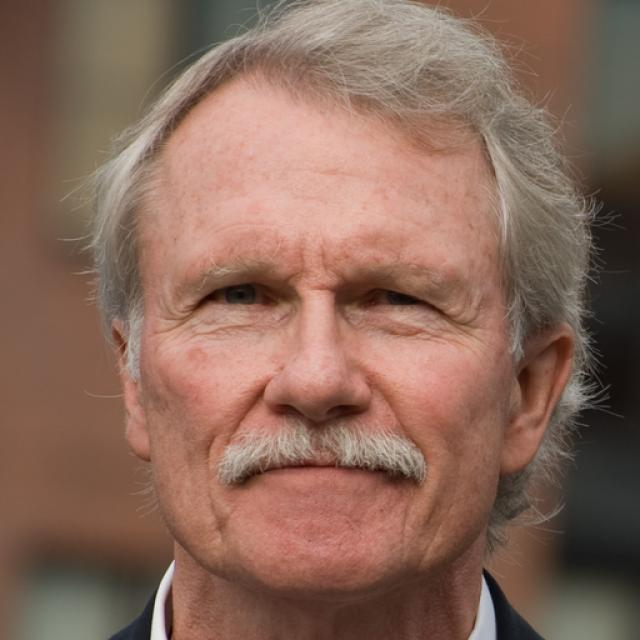Wrinkle: (375, 384, 435, 484), (222, 379, 265, 444)
